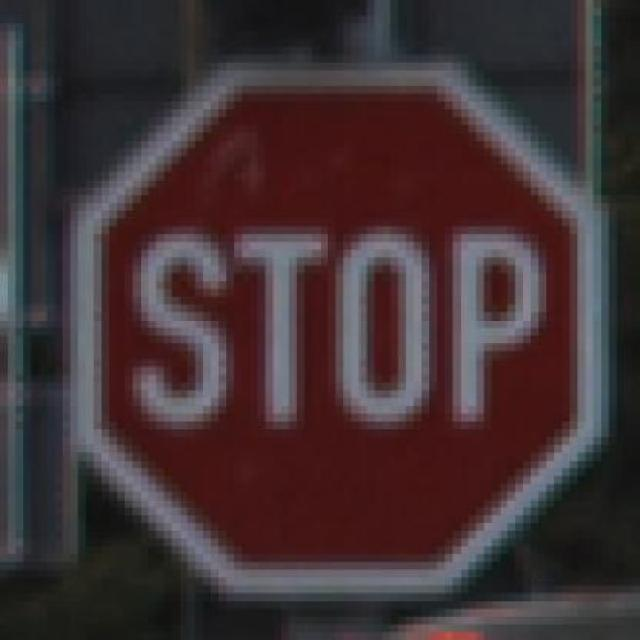Stop_Sign: (46, 46, 625, 609)
